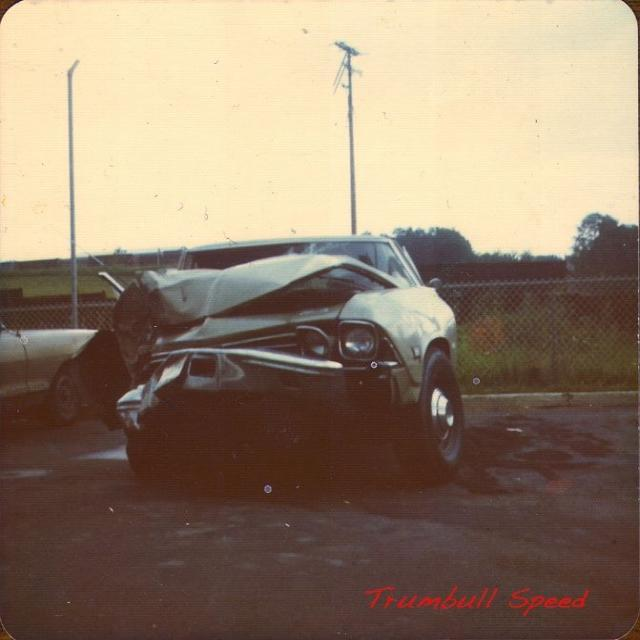crush: (111, 252, 420, 434)
